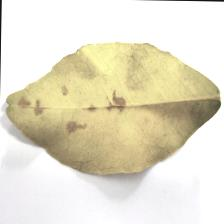black spot: (26, 68, 139, 147)
